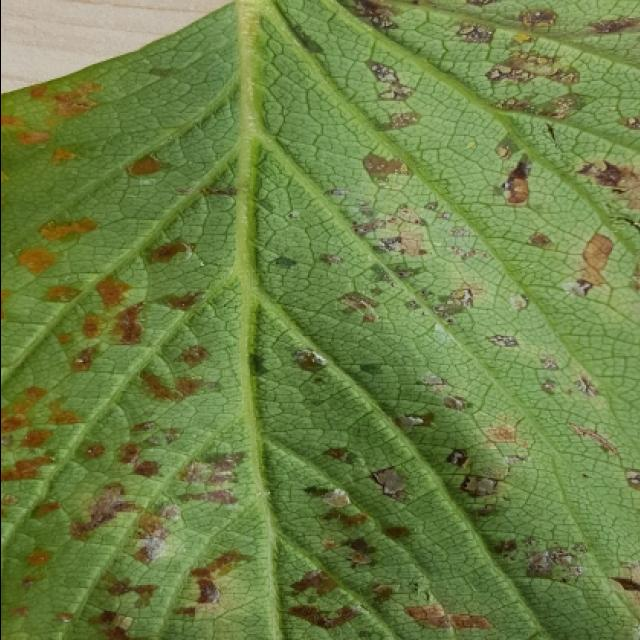Angular Leafspot: (2, 0, 640, 638)
